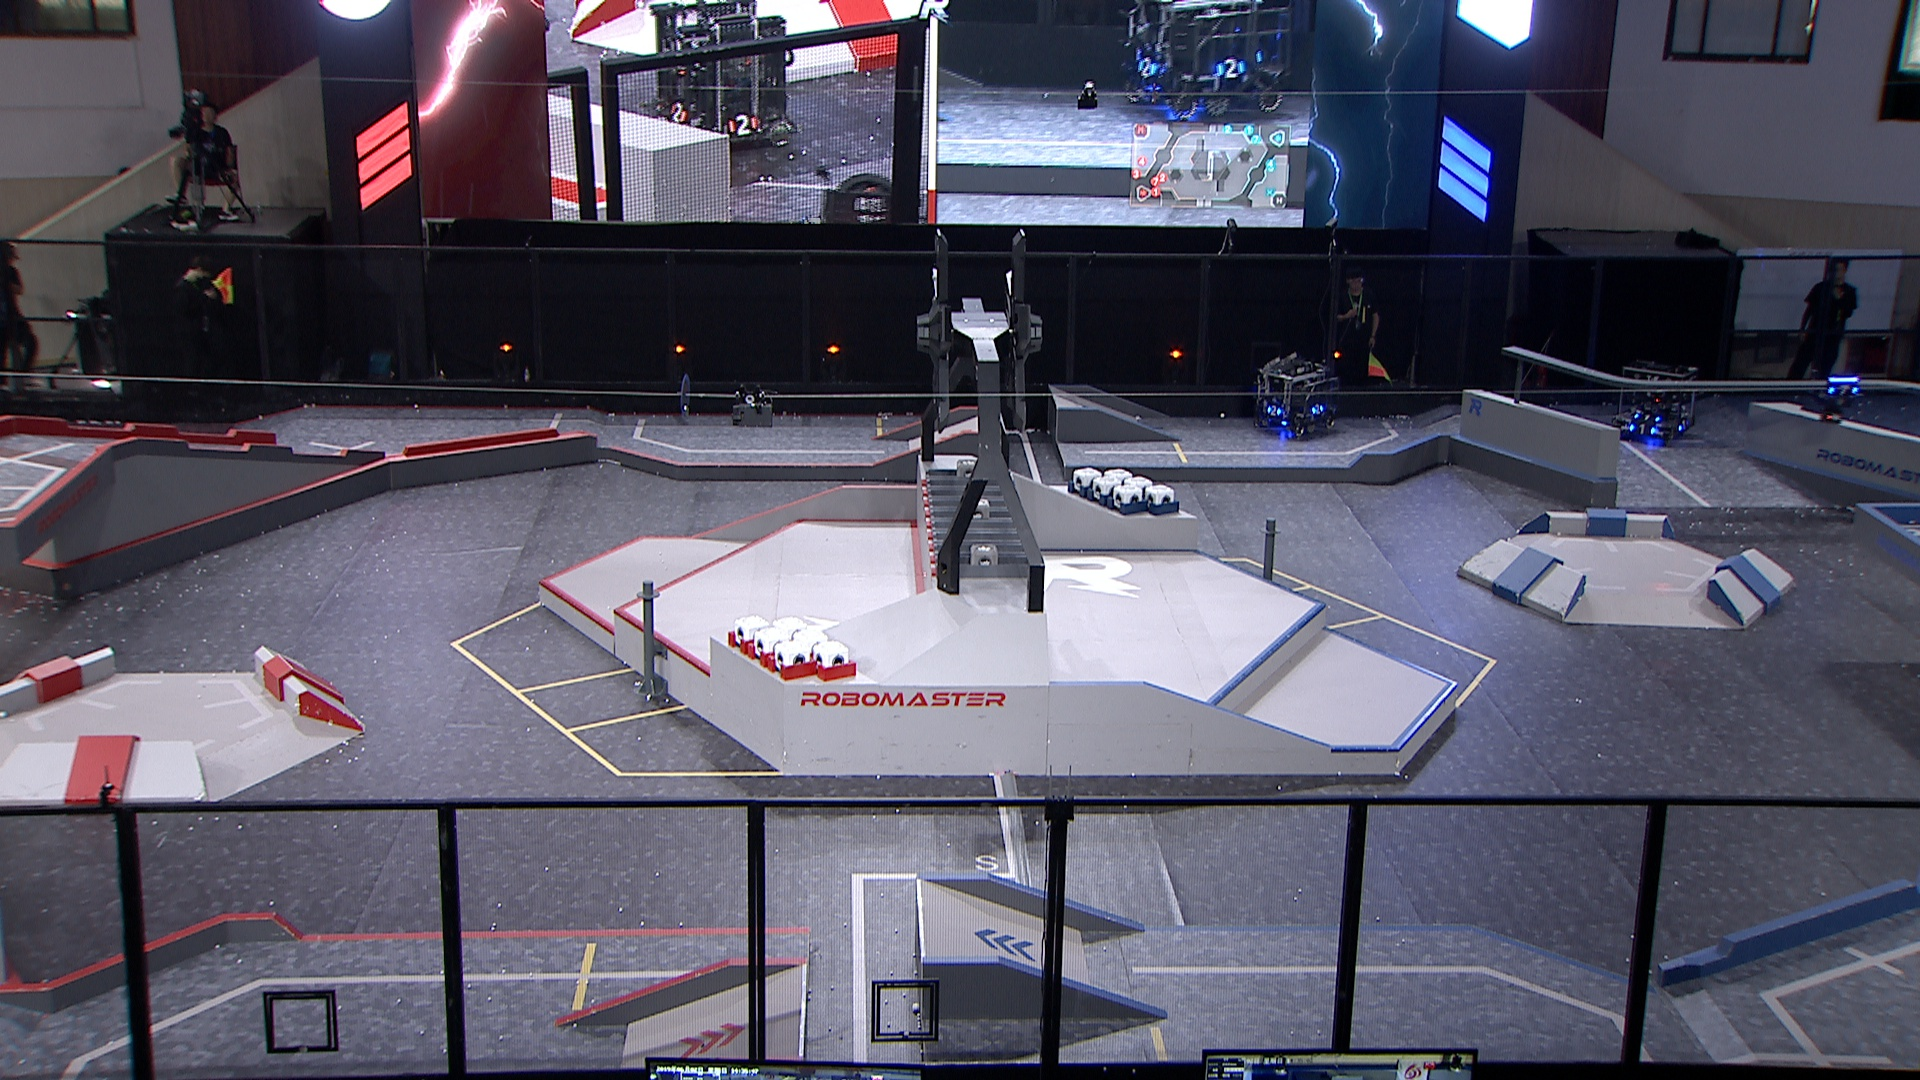armor: (1828, 384, 1855, 398), (1627, 422, 1654, 436), (1633, 411, 1659, 422), (1267, 401, 1282, 417), (1679, 417, 1689, 433), (1309, 404, 1325, 413)
car: (1611, 353, 1706, 444), (1254, 352, 1342, 442)
watcher: (1811, 363, 1859, 425)
